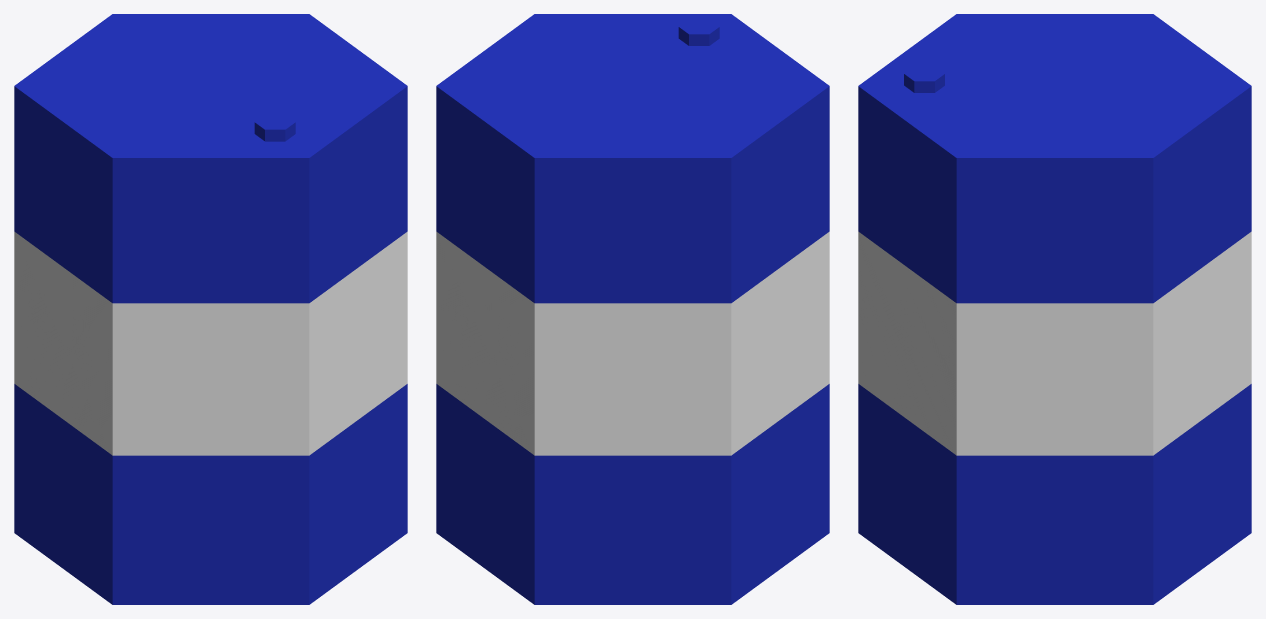
Rendered from Barril.fbx.
3 views of the same model, side by side, from view 1: azimuth 30°, elevation 25°; view 2: azimuth 150°, elevation 25°; view 3: azimuth 270°, elevation 25° (orthographic).
Visible parts, largest first — view 1: Cylinder, Cylinder.001; view 2: Cylinder, Cylinder.001; view 3: Cylinder, Cylinder.001.
Boxes of the visible parts, x1,y1,x2,y2 form: Cylinder: [14, 14, 407, 604]; Cylinder.001: [254, 114, 295, 141]; Cylinder: [436, 14, 829, 604]; Cylinder.001: [678, 19, 719, 45]; Cylinder: [858, 14, 1251, 604]; Cylinder.001: [904, 66, 944, 92].
Bounding box in the file's own units: 173 × 257 × 200.
